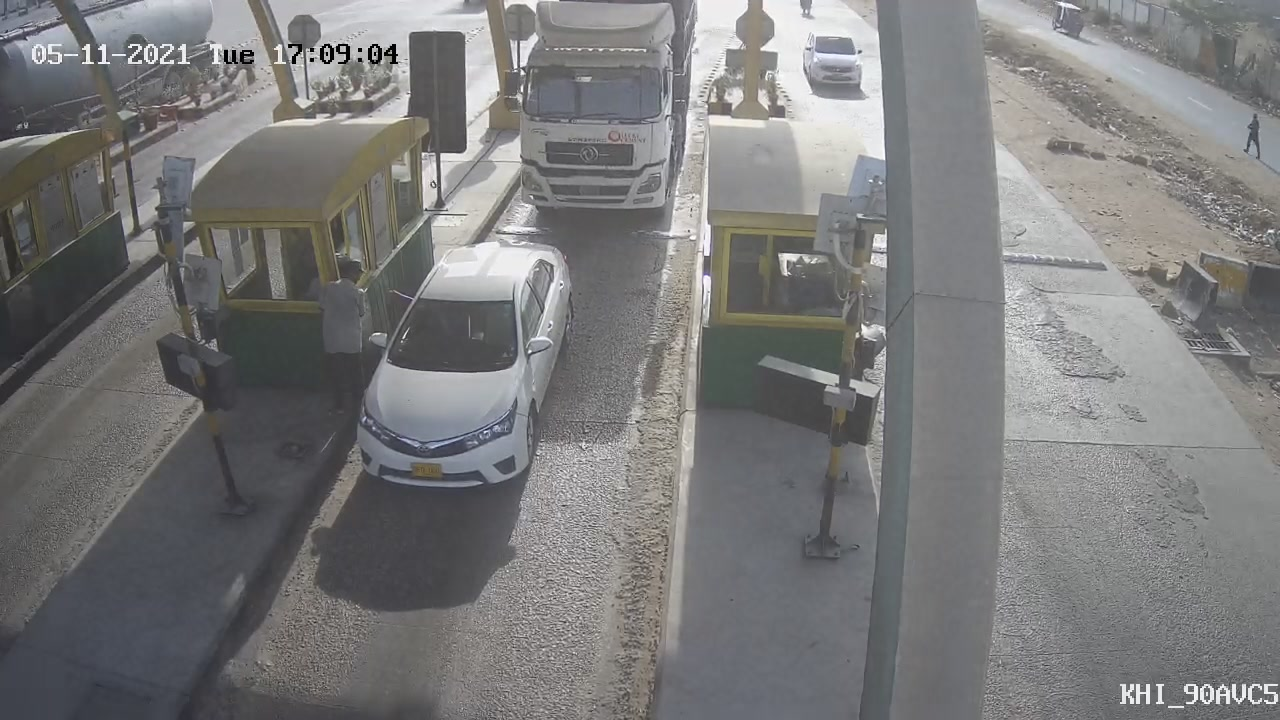F1: (331, 227, 590, 508)
